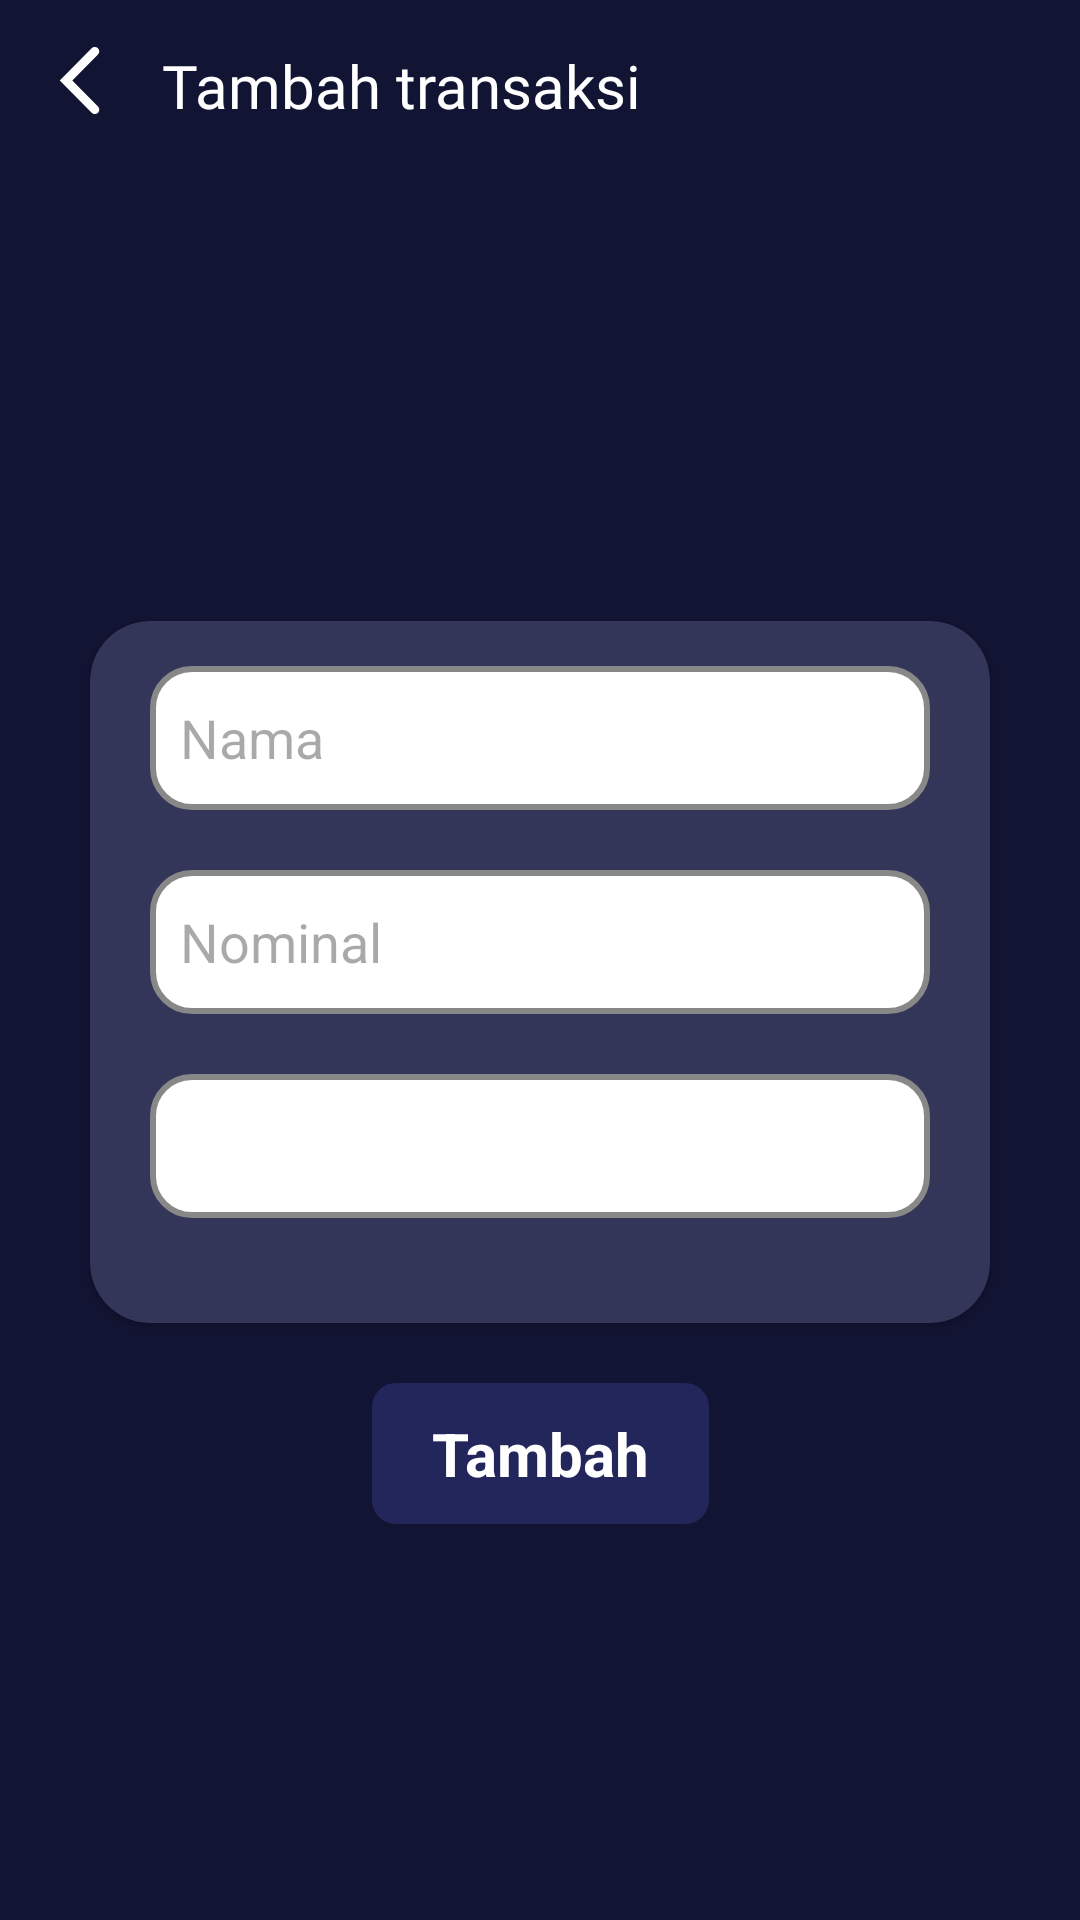

Where icons sit on this 1080 x 1920 app screen, as (x1, y1, x2, y2):
Back: (60, 47, 100, 114)
